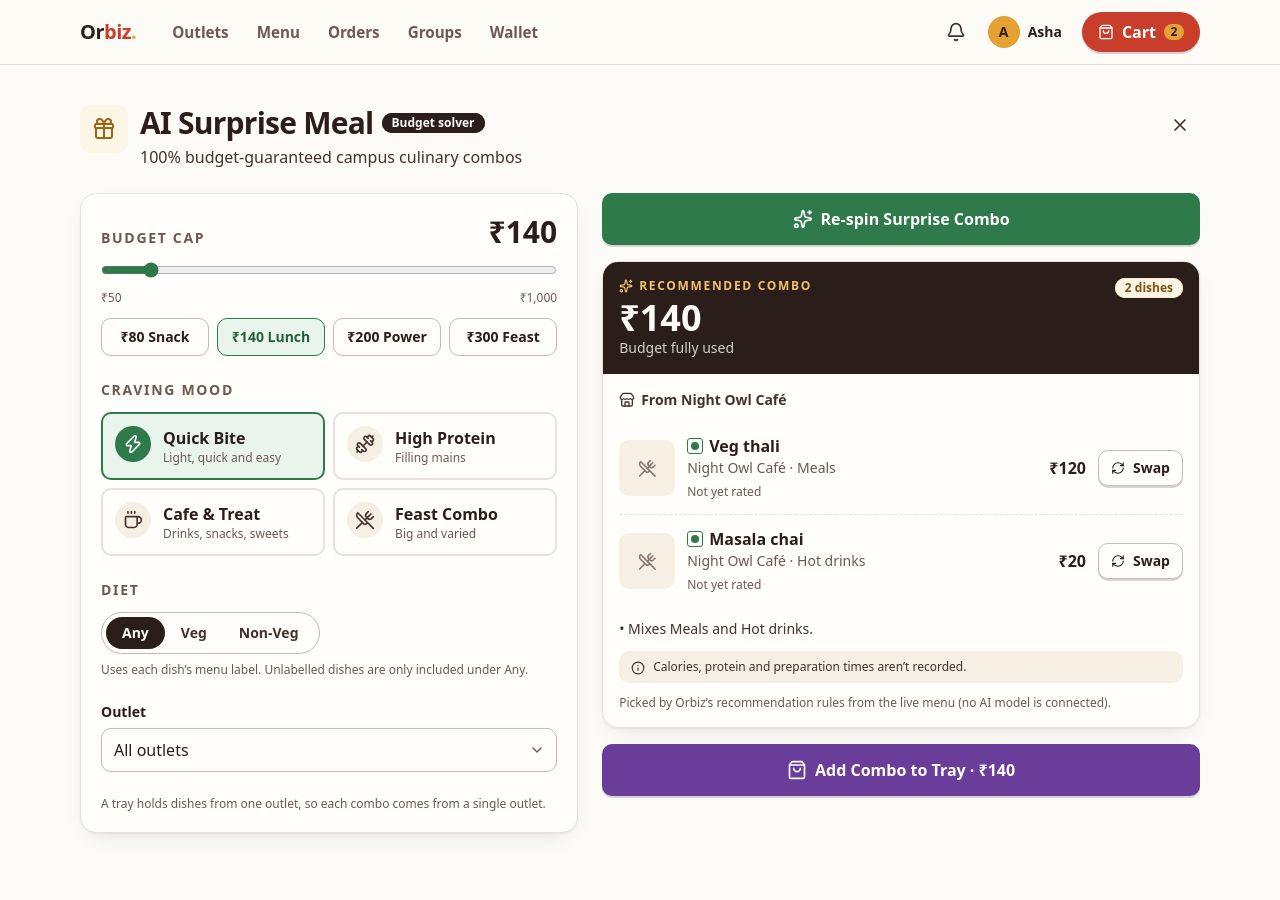
Scenario: <SurpriseMealPage /> › quick picks move the slider and are sent as the budget
Expected: the element "Recommended combo" is shown, [602,261,1200,728]
What coordinates should you click on to do the following:
click the button "₹300 Feast"
I would click on:
 (503, 337)
Its box is [449,318,557,356].
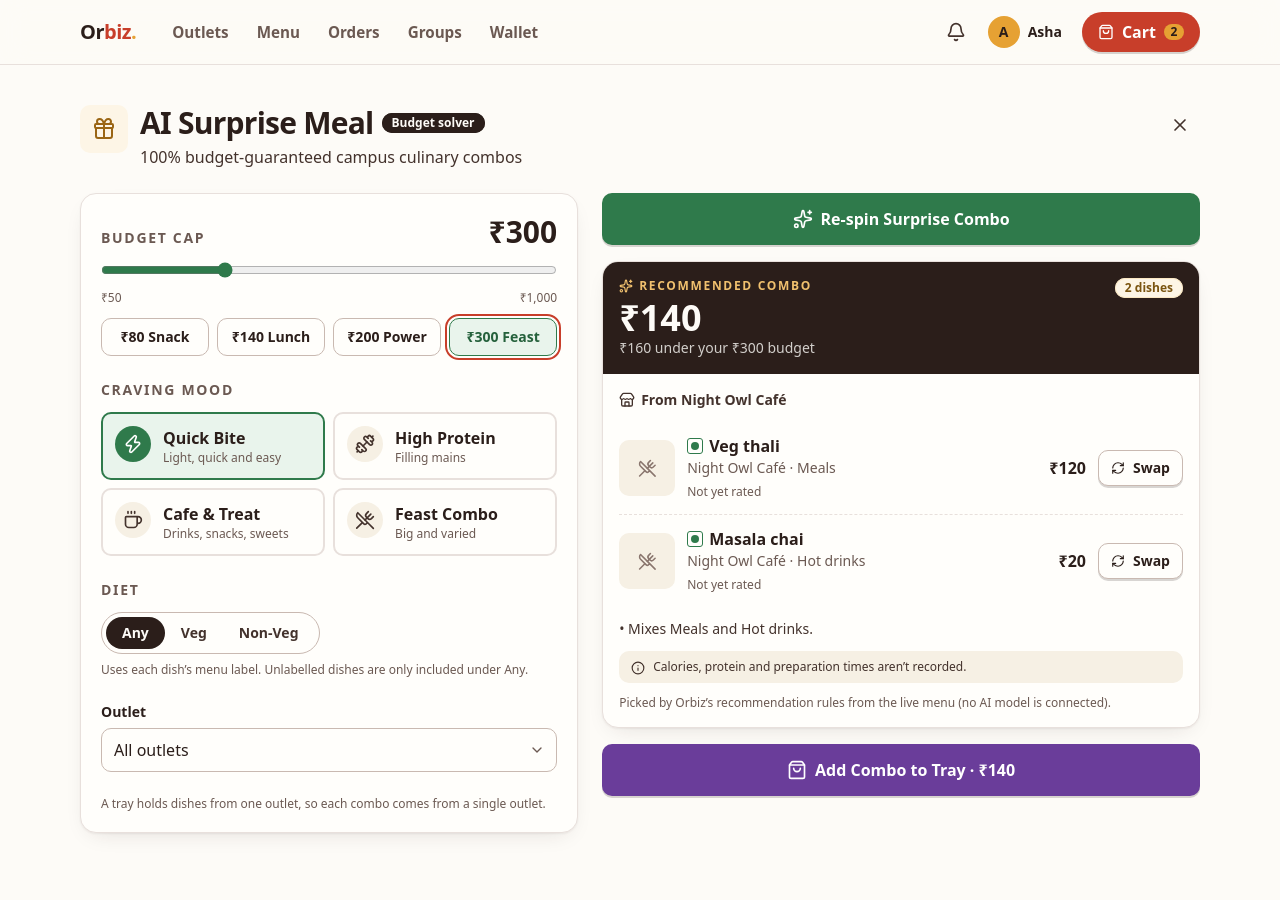
Expected: the slider named "Maximum budget" holds "30000", [101,262,557,278]
Expected: the text "₹160 under your ₹300 budget" is shown, [619,338,815,358]
